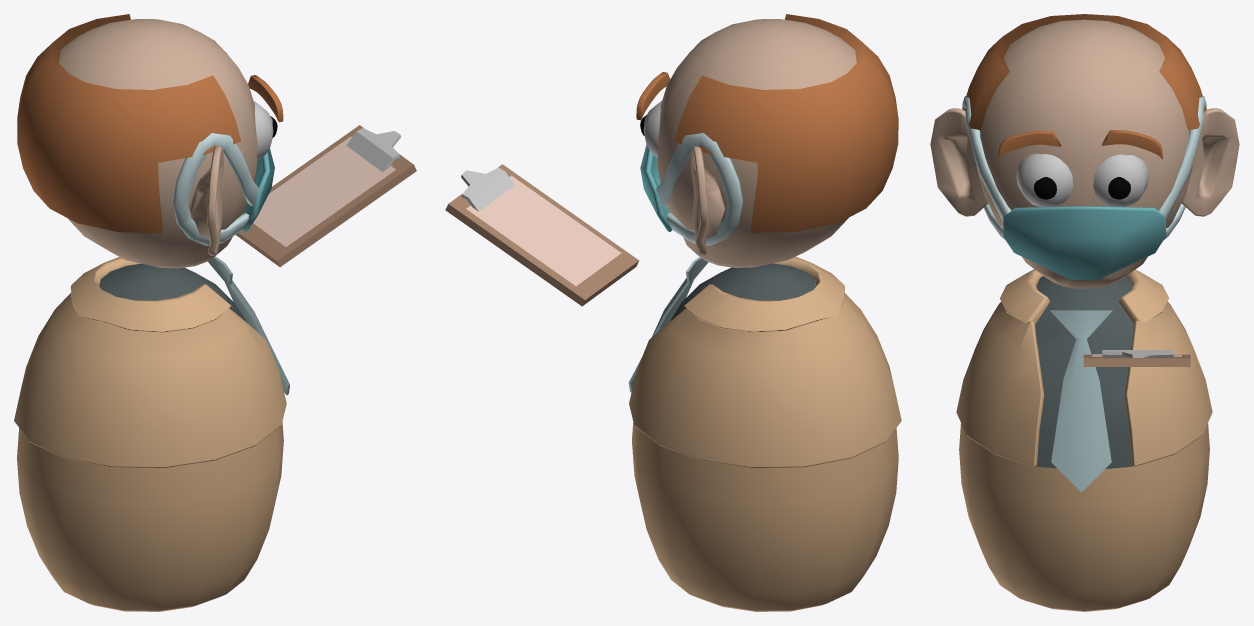
File: SM_tallMan.fbx
The picture shows the model from 3 angles, left to right: view 1: azimuth 30°, elevation 25°; view 2: azimuth 150°, elevation 25°; view 3: azimuth 270°, elevation 25°; orthographic projection.
Parts seen in each view (by area): view 1: tallMan; view 2: tallMan; view 3: tallMan.
Part boxes in pixels (box(x1,y1,x2,y2)): tallMan: box(14, 14, 416, 611); tallMan: box(445, 14, 901, 611); tallMan: box(930, 14, 1239, 611).
Size of the model in its own units: 139 by 184 by 95.5.
